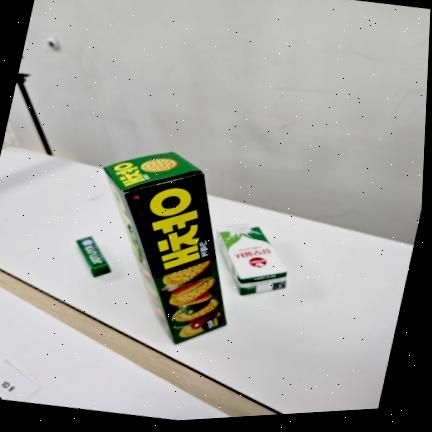cracker_vege: (104, 152, 226, 344)
gum_green: (76, 237, 111, 277)
milk_green: (217, 224, 287, 295)
